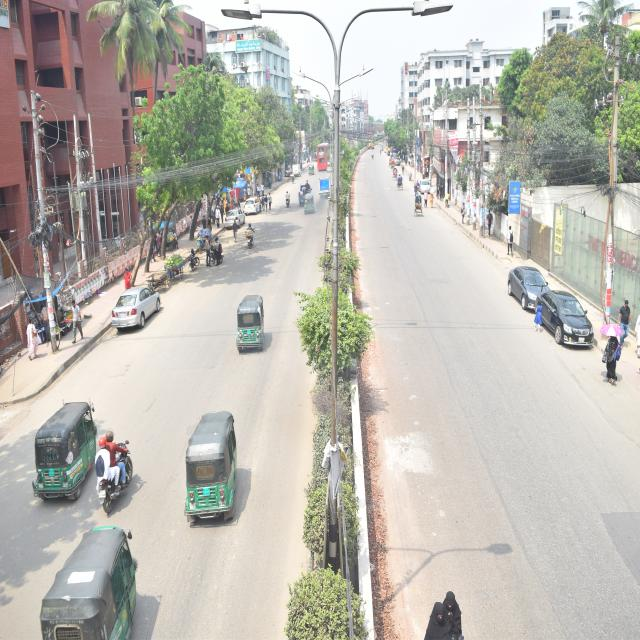bus: (314, 140, 336, 182)
car: (99, 266, 184, 344), (536, 287, 608, 371), (500, 241, 564, 326), (236, 168, 275, 223), (211, 204, 249, 238), (408, 168, 438, 200)
motorbike: (88, 416, 133, 505), (201, 227, 225, 276), (236, 220, 262, 250), (280, 188, 293, 225)
pickup-van: (313, 170, 337, 209), (299, 175, 315, 221), (292, 157, 303, 182)
